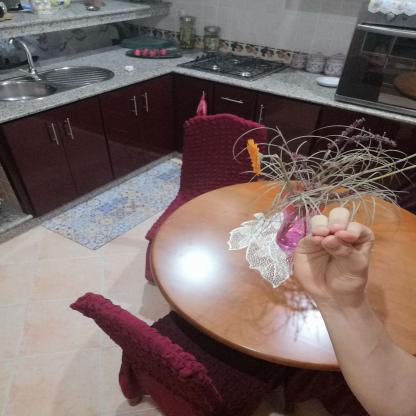HA: (279, 199, 390, 314)
